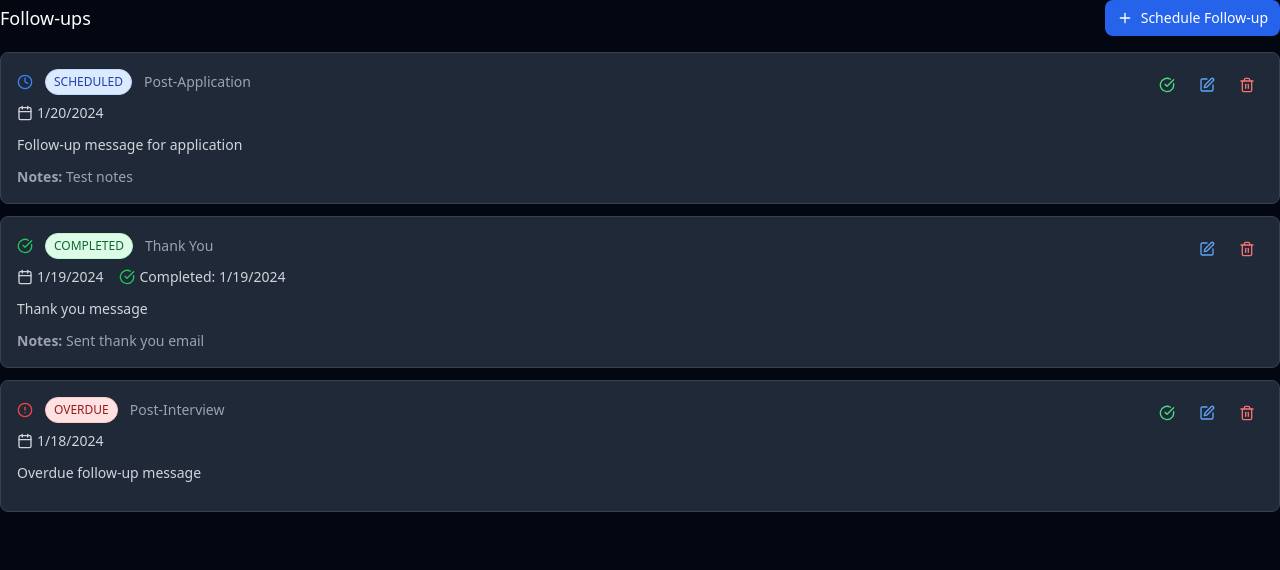
Scenario: FollowUpList › handles editing a follow-up
The image size is (1280, 570).
# Find and click the edit button for the first follow-up
Step 1. Click the button titled "Edit follow-up" in the row of "Post-Application" → (1207, 85), box [1191, 69, 1223, 101]
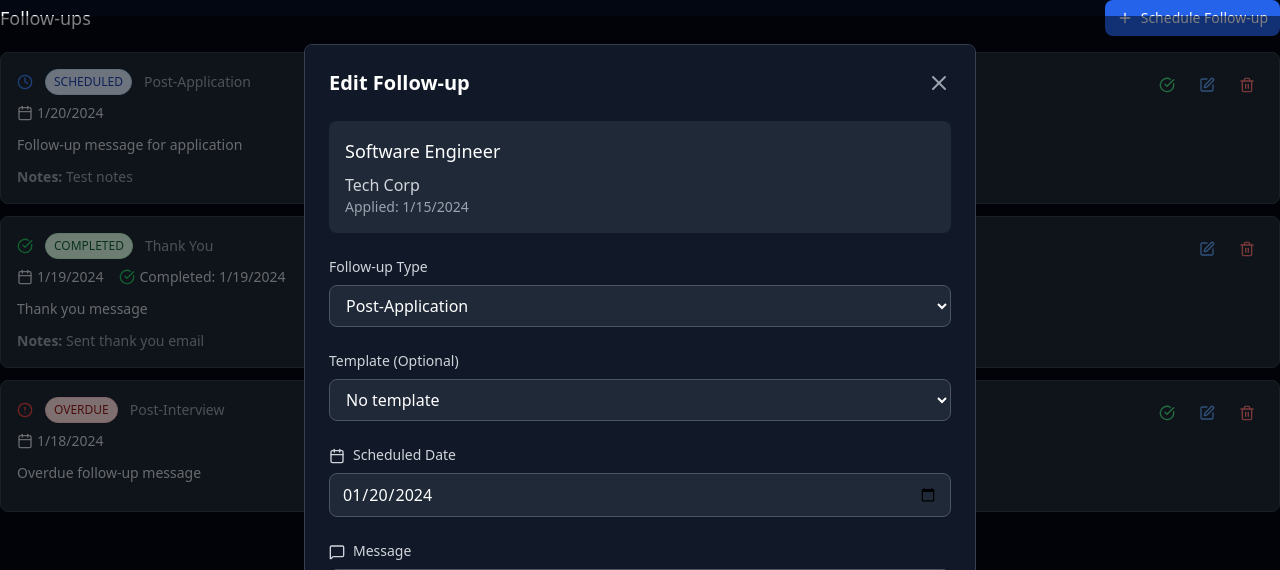
Expected: the heading "Edit Follow-up" is shown, [329, 69, 470, 97]
